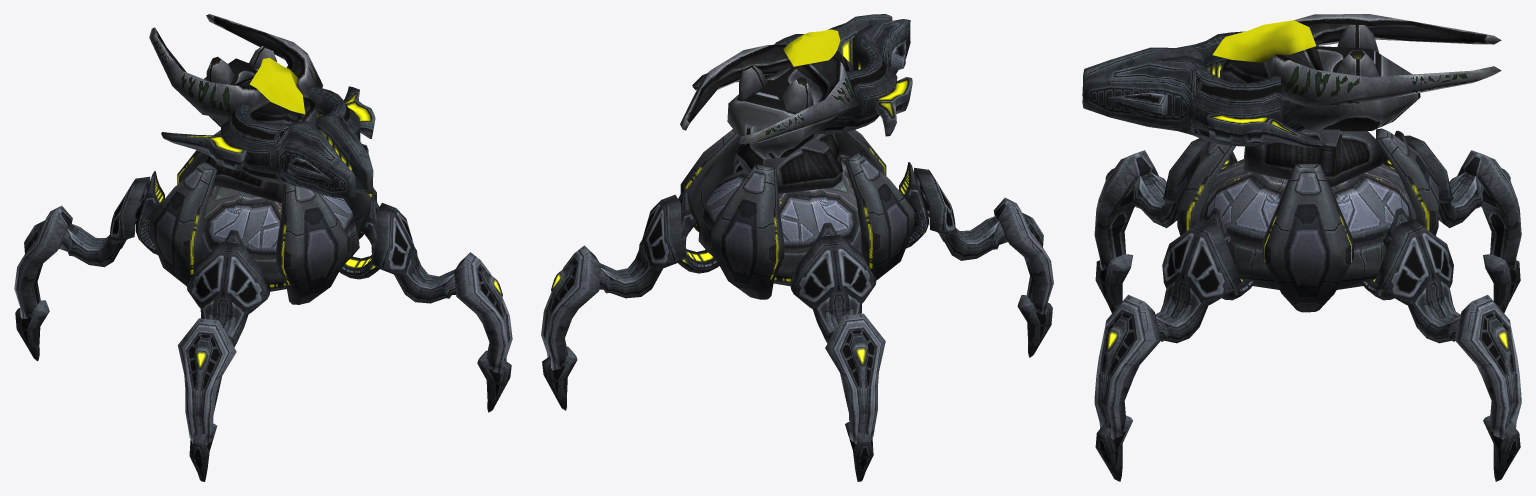
Rendered from Titan.glb.
The picture shows the model from 3 angles, left to right: view 1: azimuth 30°, elevation 25°; view 2: azimuth 150°, elevation 25°; view 3: azimuth 270°, elevation 25°; orthographic projection. The views are drawn at different scales.
Visible parts, largest first — view 1: Mesh, Mesh.001, Mesh.002; view 2: Mesh, Mesh.001, Mesh.002; view 3: Mesh, Mesh.001, Mesh.002.
Boxes of the visible parts, <box> form: Mesh: <box>149,14,376,304</box>; Mesh.001: <box>14,171,512,481</box>; Mesh.002: <box>161,85,375,199</box>; Mesh: <box>680,29,914,299</box>; Mesh.001: <box>541,143,1053,481</box>; Mesh.002: <box>692,14,912,136</box>; Mesh: <box>1177,14,1501,312</box>; Mesh.001: <box>1094,130,1521,481</box>; Mesh.002: <box>1082,31,1326,148</box>.
Bounding box in the file's own units: 3.18 × 3.14 × 3.28.
Materials: 3 (3 with a texture image).
